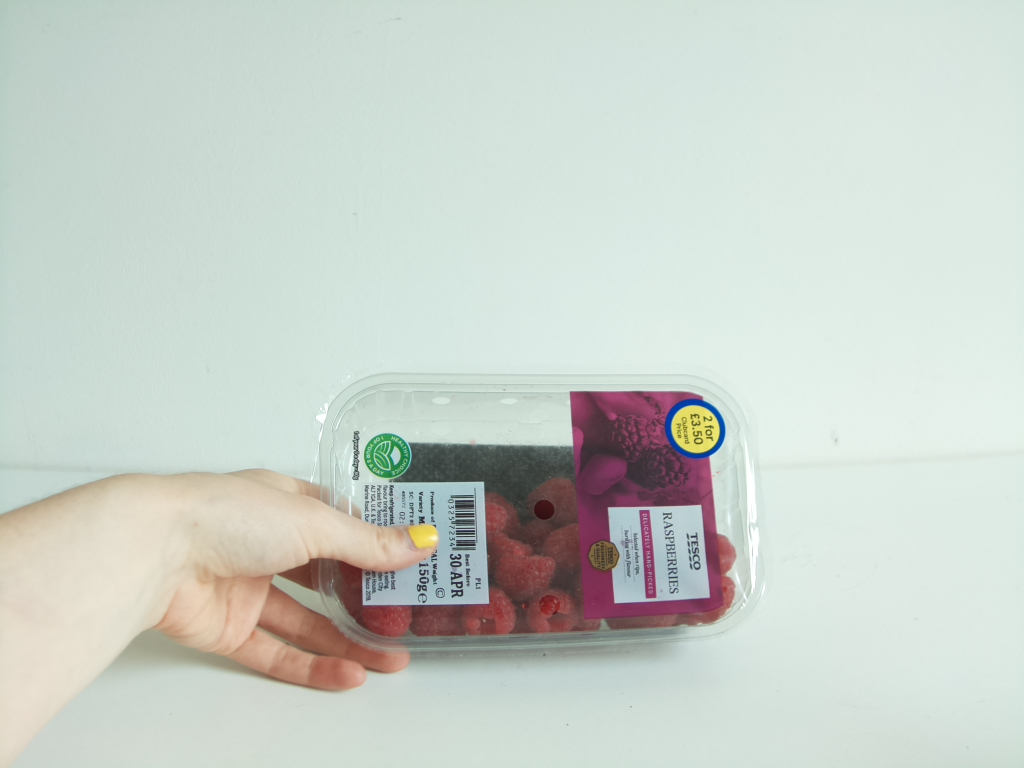soft-fruit: (310, 368, 761, 654)
